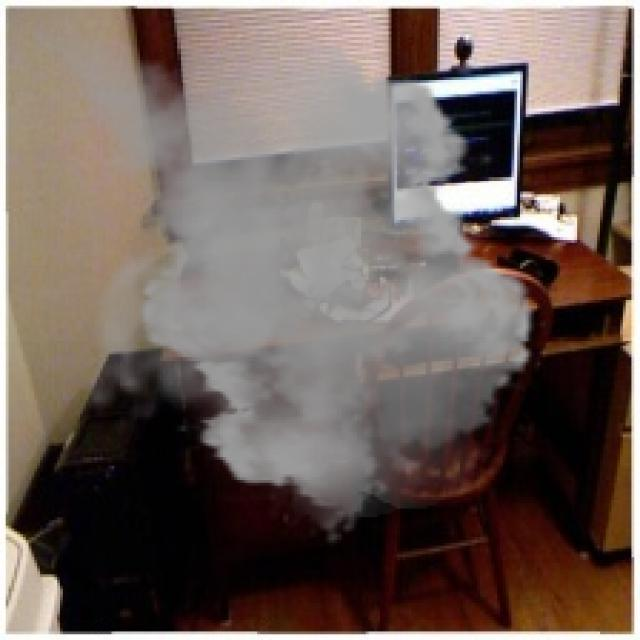Smoke: (0, 14, 549, 546)
